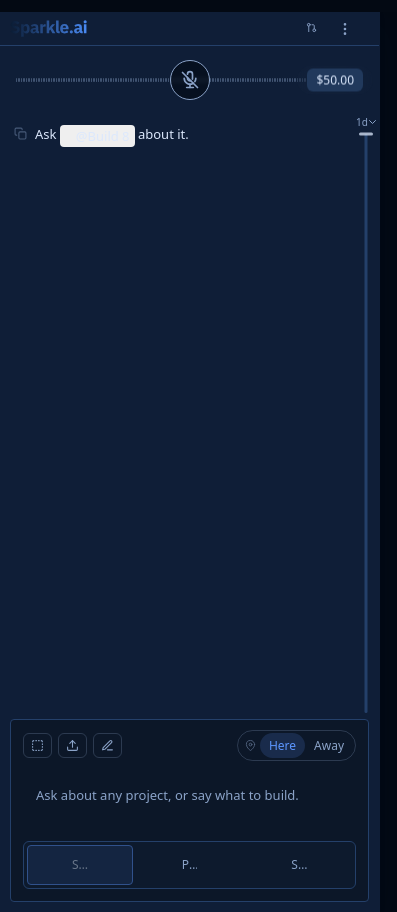
Test: (e) the host tells the reader when the reveal had nothing to do › says where the agent is instead of producing no visible change
Click the button with test id "concierge-agent-pill" at coordinates (97, 136), box [60,125,135,147]
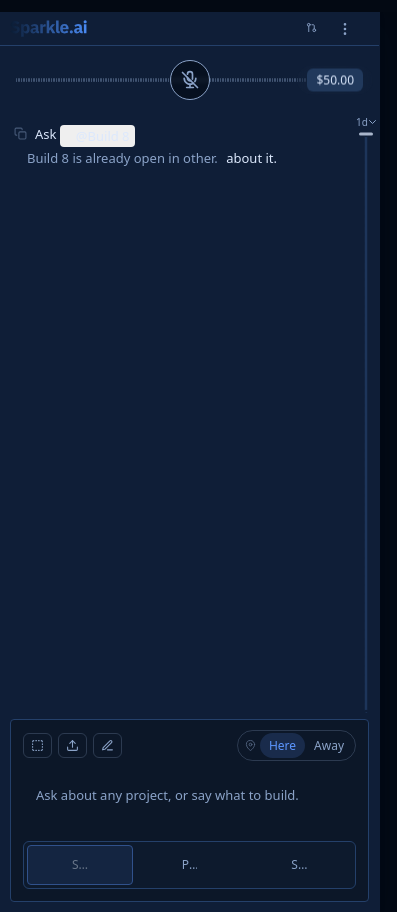
Now the text with test id "concierge-agent-pill-notice" reads "Build 8 is already open in other.", box [27,149,218,167]
